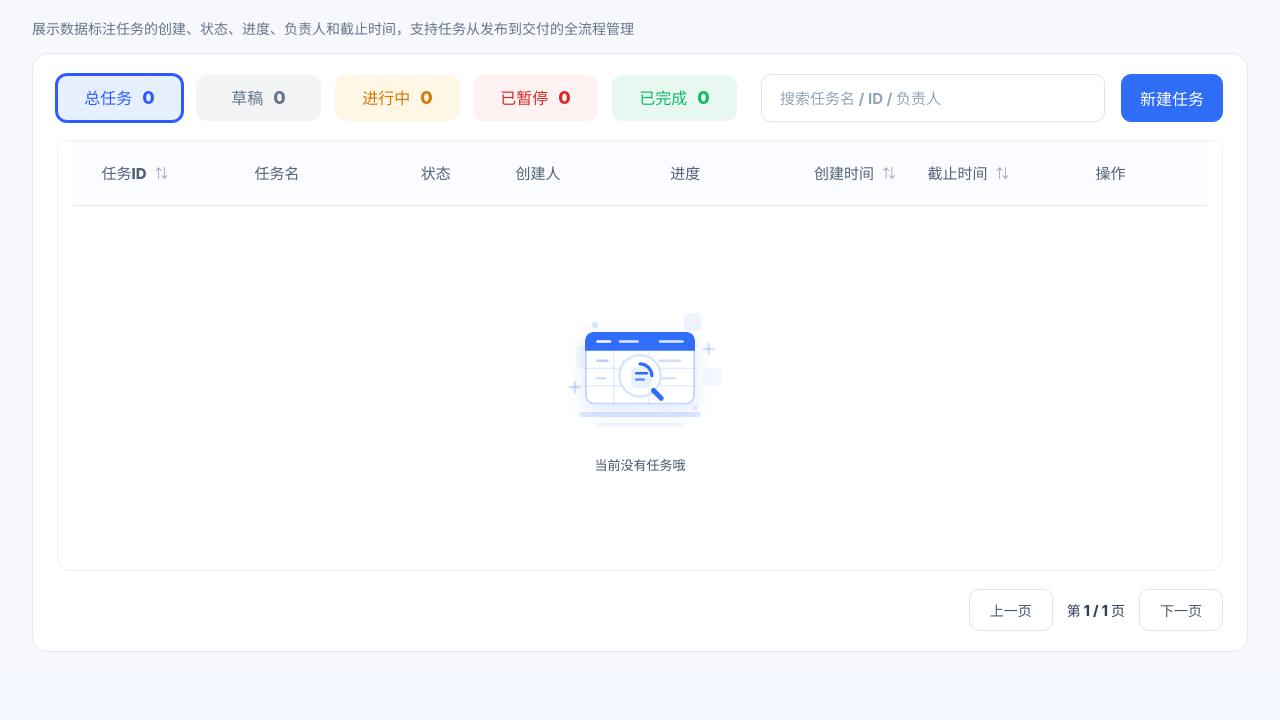
Scenario: TaskListPage › 未选择关联模板保存草稿后再次打开仍显示请选择评测模板
Check: the table named "任务列表" is shown, box [73,141,1207,570]
Click the button "新建任务": (1172, 98) [1121,74,1223,122]
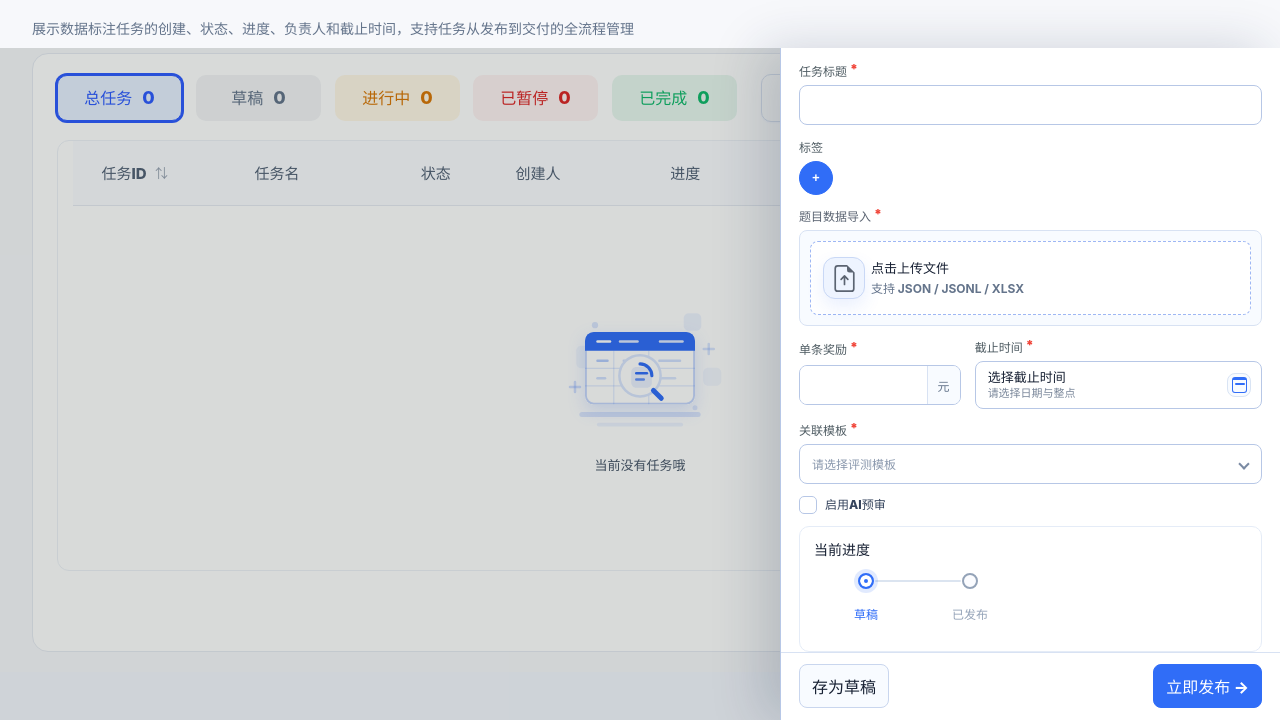
Check: the dropdown labelled "关联模板" is empty, box [799,444,1262,484]
In the field labelled "任务标题": (1030, 105) [799,85,1262,125], type "无模板草稿"
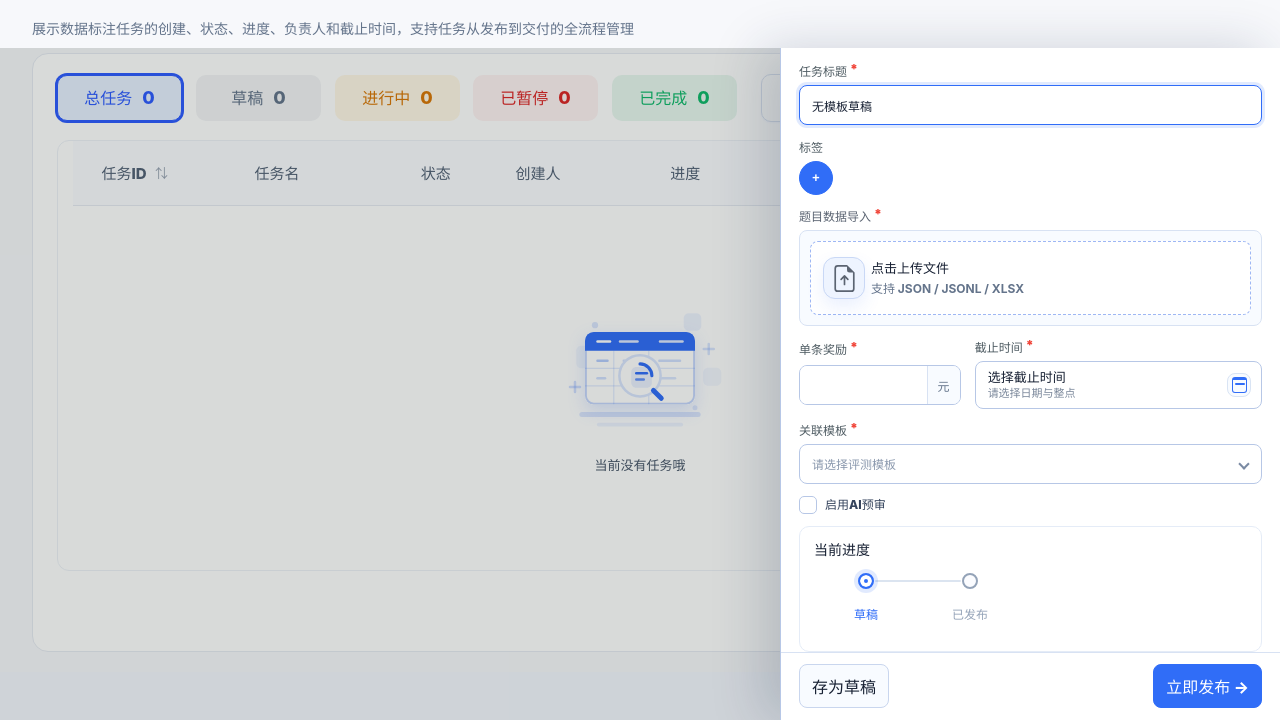
Click the button "存为草稿": (844, 686) [799,664,889,708]
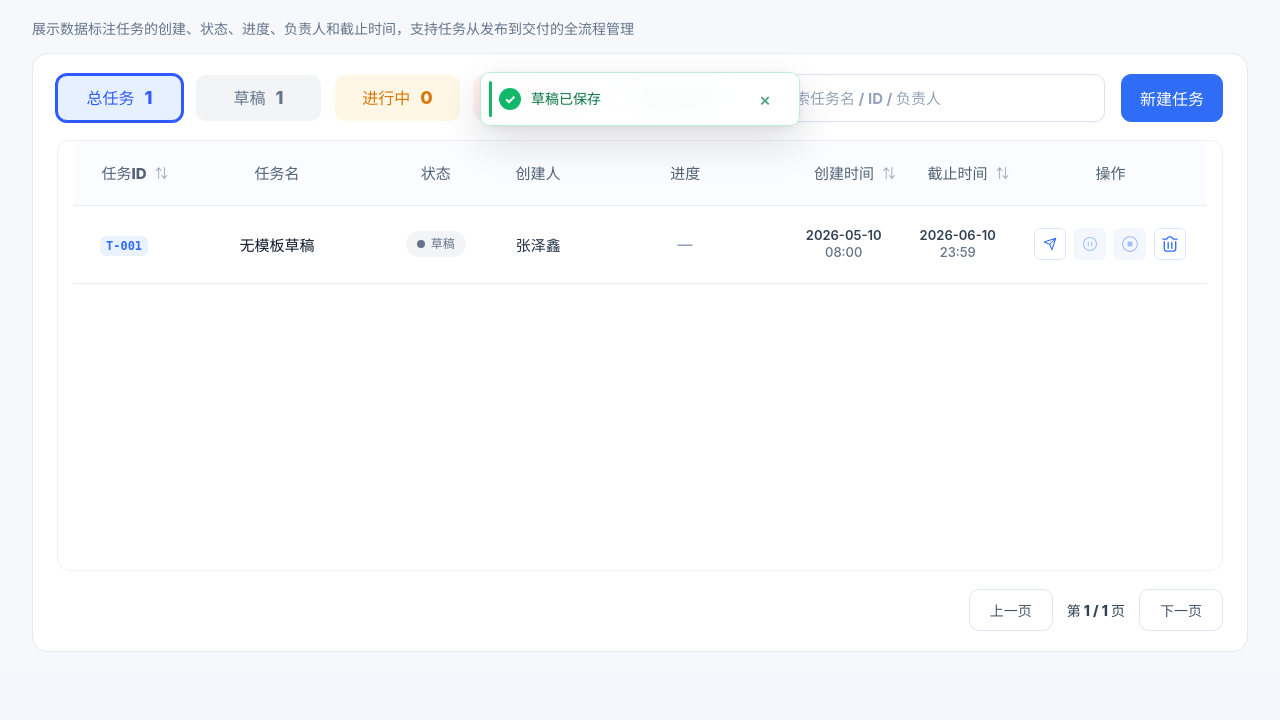
Check: the text "草稿已保存" is shown, box [531,90,601,107]
Check: the element "发布任务抽屉" is gone
Click the row "T-001 无模板草稿 草稿 张泽鑫 — 2026-05-10 08:00 2026-06-10 23:59": (640, 244) [73,205,1207,283]
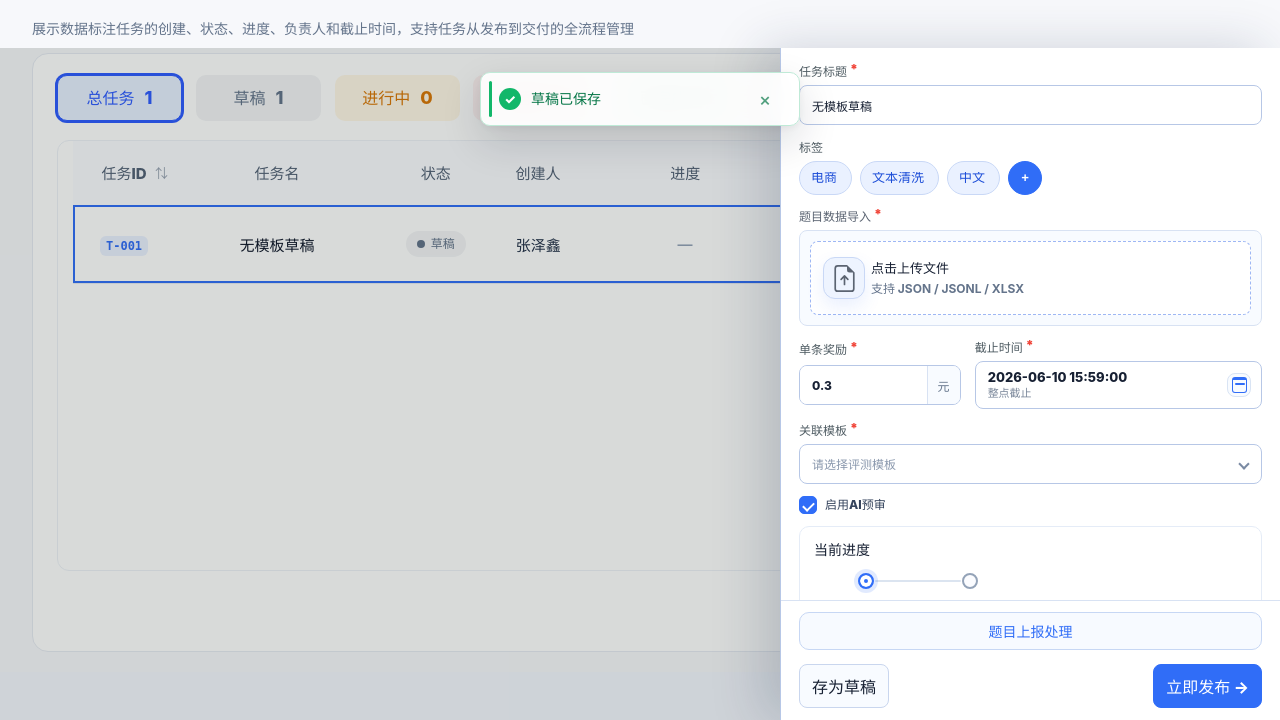
Check: the dropdown labelled "关联模板" is empty
Click the dropdown labelled "关联模板": (1030, 464) [799,444,1262,484]
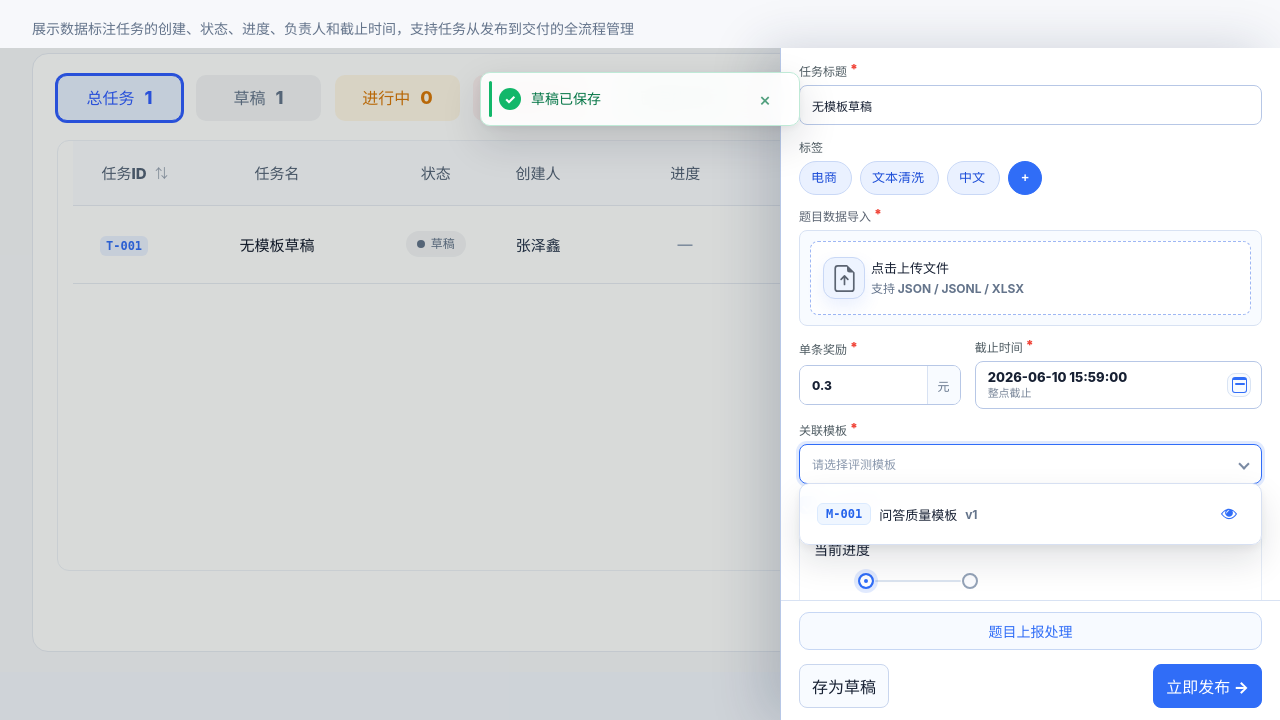
Check: the option with aria-label "M-001 · 问答质量模板 · v1" is shown, box [806,490,1255,538]
